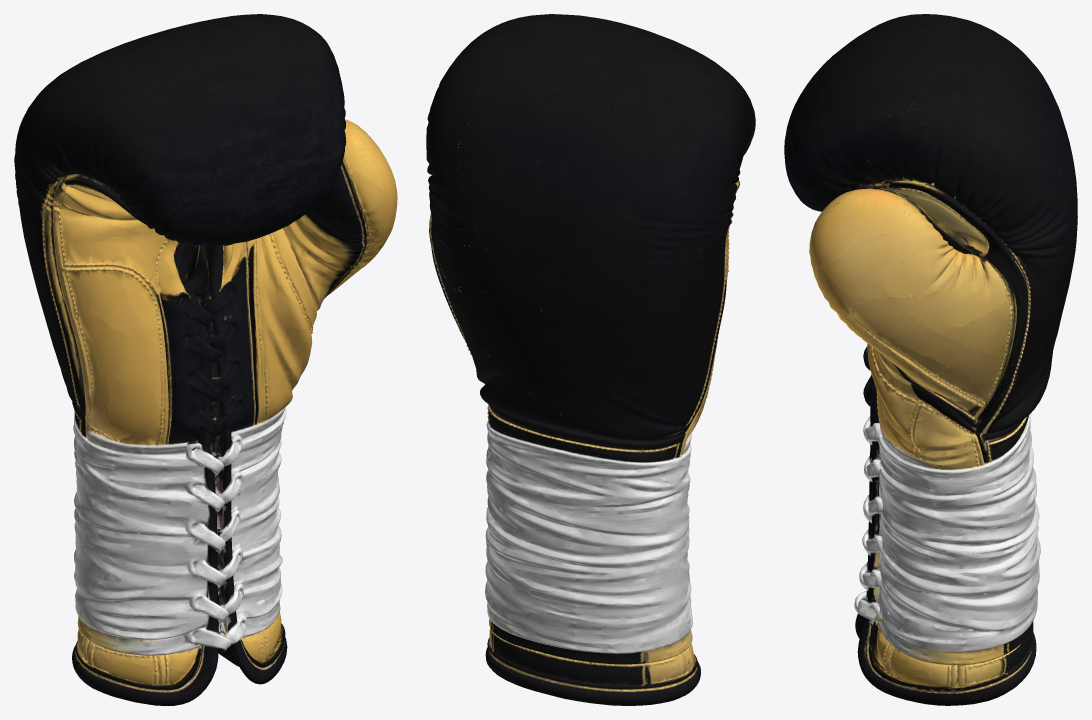
Rendered from fight_glove.glb.
3 views of the same model, side by side, from view 1: azimuth 30°, elevation 25°; view 2: azimuth 150°, elevation 25°; view 3: azimuth 270°, elevation 25° (orthographic). The views are drawn at different scales.
Parts seen in each view (by area): view 1: Mesh_0; view 2: Mesh_0; view 3: Mesh_0.
Part boxes in pixels (x1,y1,x2,y2): Mesh_0: (14,14,397,705); Mesh_0: (426,14,755,705); Mesh_0: (784,14,1077,705).
Size of the model in its own units: 0.9727 by 1.9 by 0.8127.
Materials: 1 (1 with a texture image).
